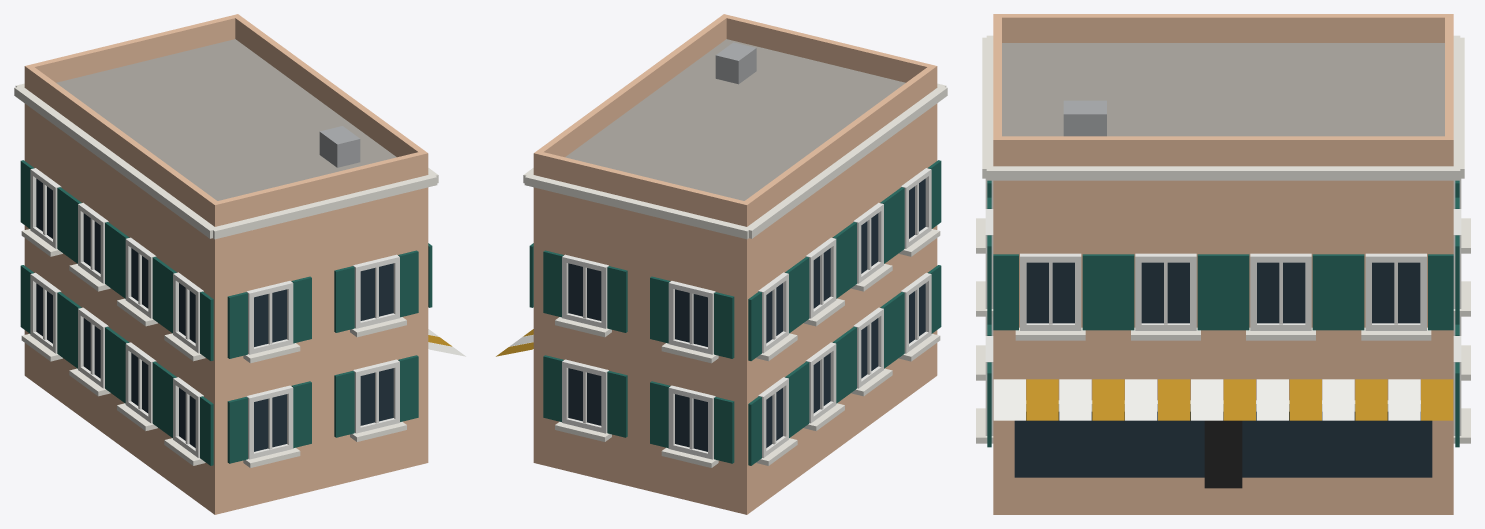
The picture shows the model from 3 angles, left to right: view 1: azimuth 30°, elevation 25°; view 2: azimuth 150°, elevation 25°; view 3: azimuth 270°, elevation 25°; orthographic projection. The views are drawn at different scales.
Parts seen in each view (by area): view 1: b8281; view 2: b8281; view 3: b8281.
Boxes of the visible parts, <box> form: b8281: <box>14,14,465,514</box>; b8281: <box>496,14,947,514</box>; b8281: <box>976,14,1470,514</box>.
Size of the model in its own units: 3430 by 3874 by 4598.
